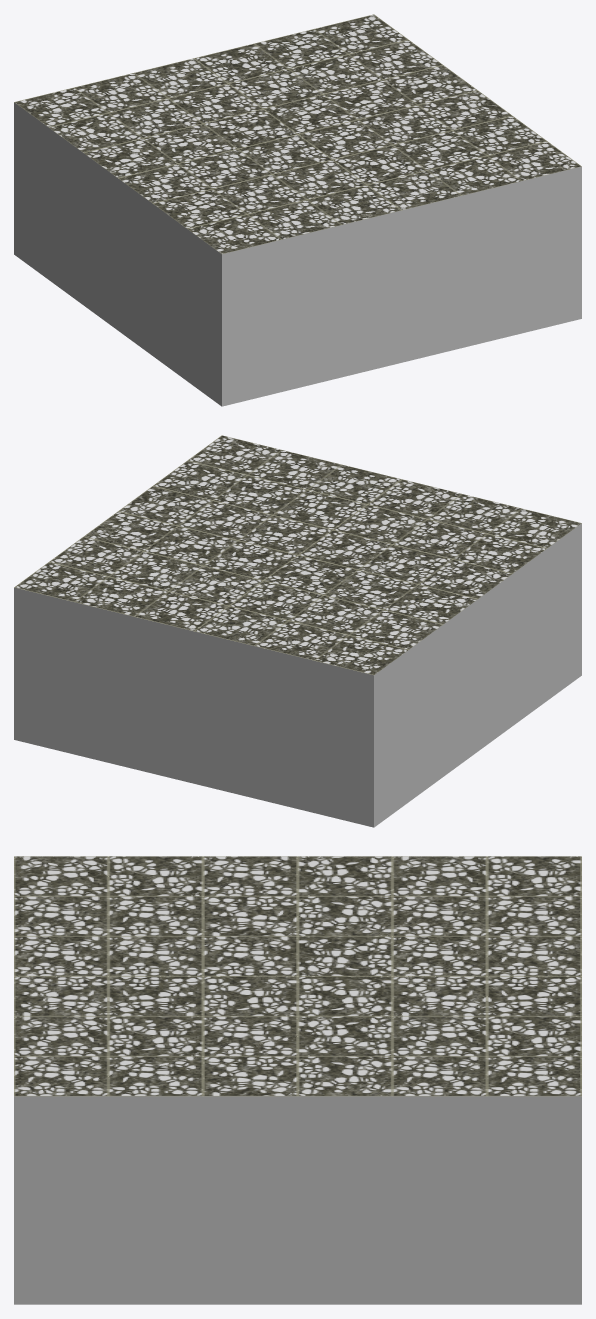
Rendered from Floor_SH.fbx.
3 views of the same model, one above another, from view 1: azimuth 30°, elevation 25°; view 2: azimuth 150°, elevation 25°; view 3: azimuth 270°, elevation 25° (orthographic). The views are drawn at different scales.
Parts seen in each view (by area): view 1: Floor_SH; view 2: Floor_SH; view 3: Floor_SH.
Boxes of the visible parts, box(x1,y1,x2,y2) form: Floor_SH: box(14, 14, 581, 406); Floor_SH: box(14, 435, 581, 827); Floor_SH: box(14, 856, 581, 1304).
Bounding box in the file's own units: 12 × 4.85 × 12.
